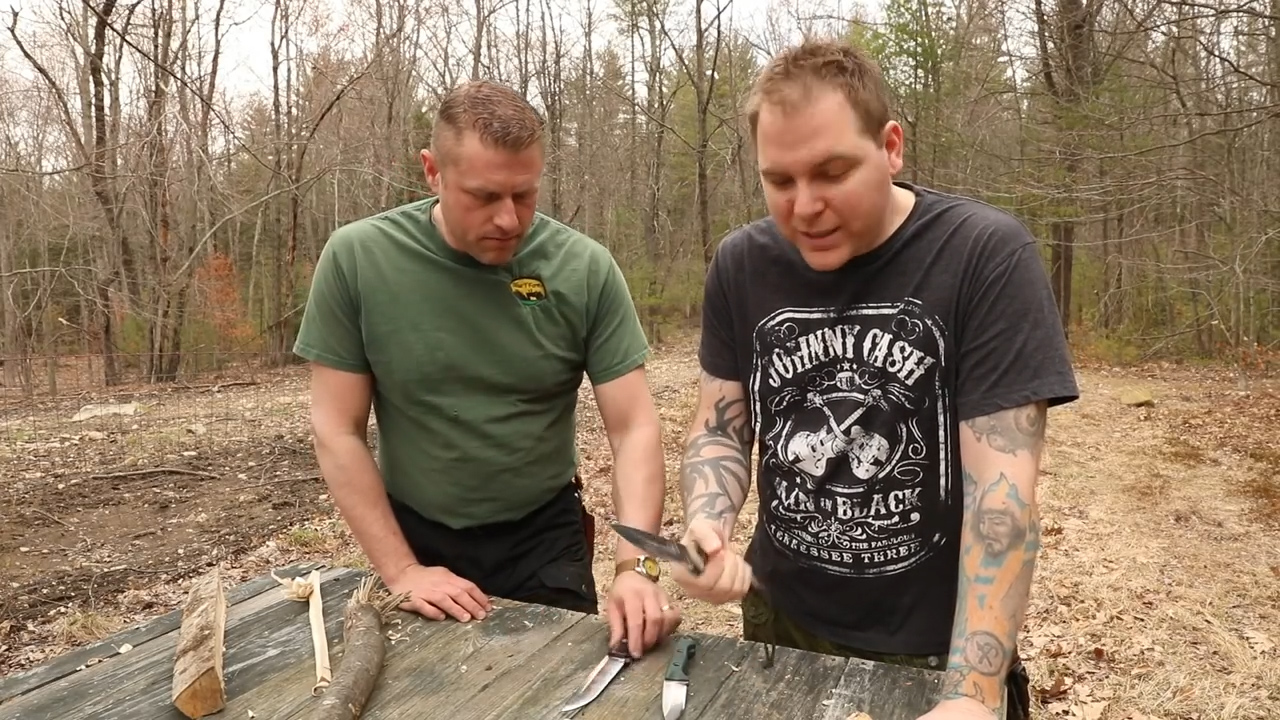knife: (599, 506, 769, 606)
